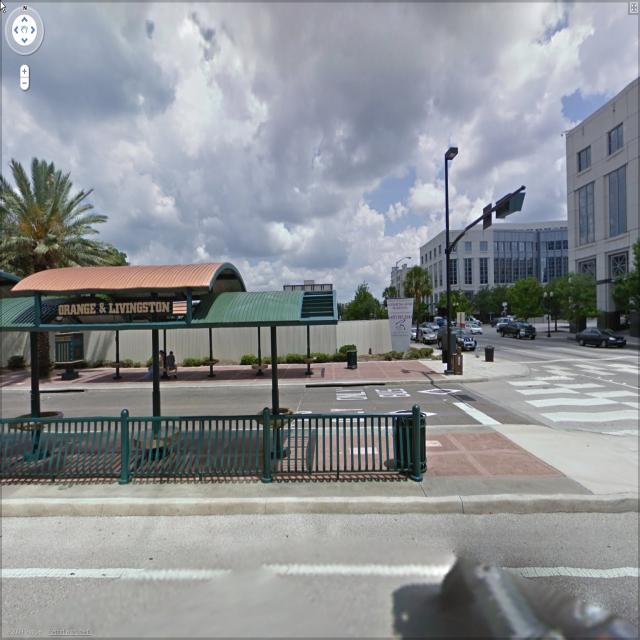b_1: (561, 90, 640, 279), (418, 222, 496, 310), (497, 214, 567, 285)
